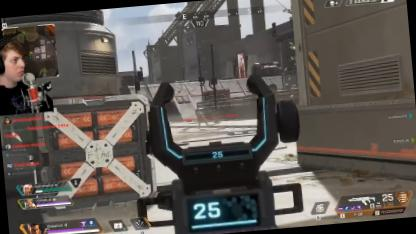Target: (196, 110, 209, 127)
